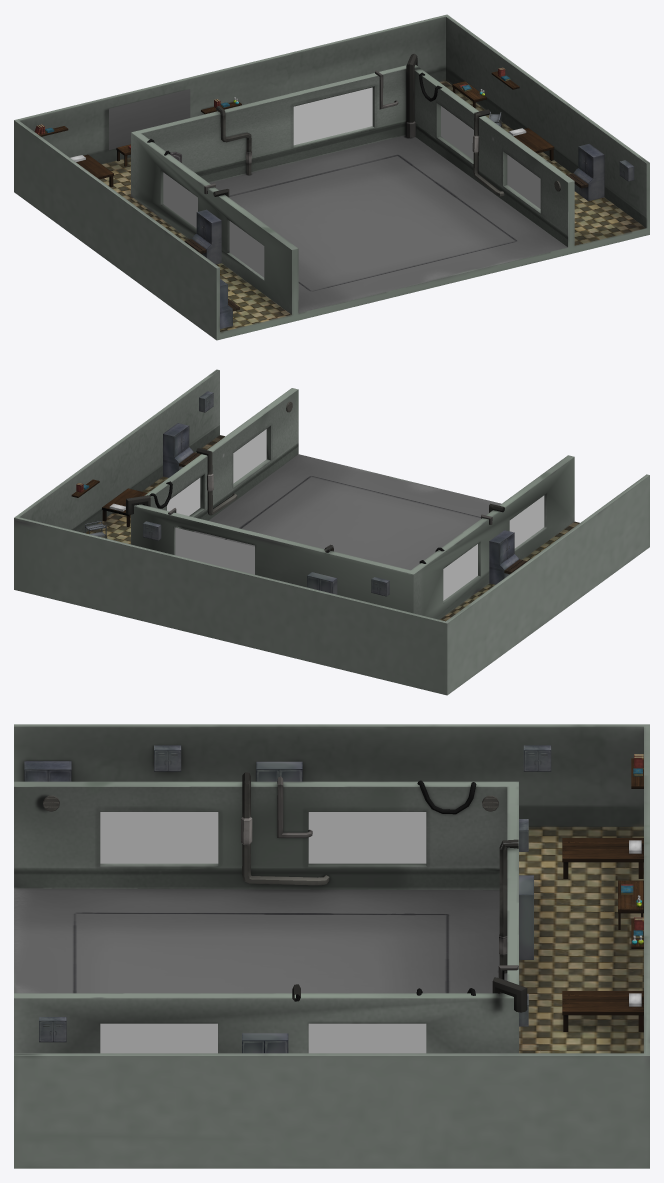
Rendered from EscenarioOld.fbx.
The picture shows the model from 3 angles, top to bottom: view 1: azimuth 30°, elevation 25°; view 2: azimuth 150°, elevation 25°; view 3: azimuth 270°, elevation 25°; orthographic projection. The views are drawn at different scales.
Visible parts, largest first — view 1: cartel 2, ventana (×2), cartel, ventana001, quimicos002, quimicos001, Line002, tubo001, tubo, cama002, quimicos, cama001; view 2: cartel 2, ventana (×2), ventana001, quimicos002, quimicos001, tubo001, cama002, repisa008; view 3: cartel 2, ventana, ventana001, tubo (×2), cama, cama001, repisa008, quimicos, repisa006, repisa001, mesa001, repisa002 (+3 smaller).
Part boxes in pixels (bbox=[...]): cartel 2: bbox=[14, 14, 649, 340]; ventana (×2): bbox=[163, 87, 372, 277]; cartel: bbox=[109, 89, 190, 149]; ventana001: bbox=[441, 106, 540, 208]; quimicos002: bbox=[566, 143, 604, 201]; quimicos001: bbox=[184, 209, 221, 264]; Line002: bbox=[405, 53, 417, 137]; tubo001: bbox=[472, 109, 504, 196]; tubo: bbox=[216, 106, 251, 175]; cama002: bbox=[513, 128, 554, 160]; quimicos: bbox=[220, 279, 239, 328]; cama001: bbox=[76, 154, 113, 186]; cartel 2: bbox=[14, 369, 649, 695]; ventana (×2): bbox=[175, 495, 544, 600]; ventana001: bbox=[167, 429, 266, 515]; quimicos002: bbox=[163, 423, 200, 477]; quimicos001: bbox=[489, 530, 526, 584]; tubo001: bbox=[196, 448, 237, 515]; cama002: bbox=[102, 488, 147, 526]; repisa008: bbox=[307, 572, 337, 594]; cartel 2: bbox=[14, 724, 649, 1168]; ventana: bbox=[100, 812, 426, 863]; ventana001: bbox=[100, 1023, 426, 1053]; tubo (×2): bbox=[241, 772, 518, 973]; cama: bbox=[562, 991, 643, 1031]; cama001: bbox=[562, 838, 643, 878]; repisa008: bbox=[519, 875, 533, 959]; quimicos: bbox=[24, 761, 71, 781]; repisa006: bbox=[242, 1033, 288, 1053]; repisa001: bbox=[256, 761, 302, 781]; mesa001: bbox=[618, 880, 643, 929]; repisa002: bbox=[523, 745, 551, 771].
Bounding box in the file's own units: 60.89 × 10.69 × 49.34.
Materials: 1 (1 with a texture image).
